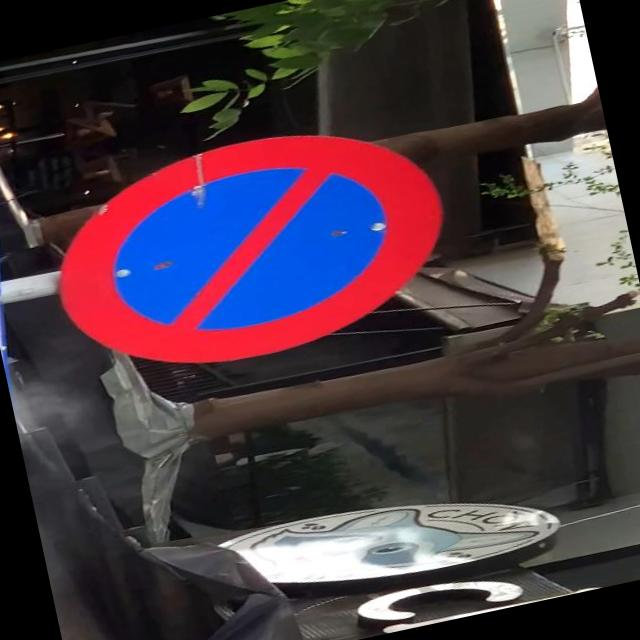P-131a: (34, 103, 464, 393)
